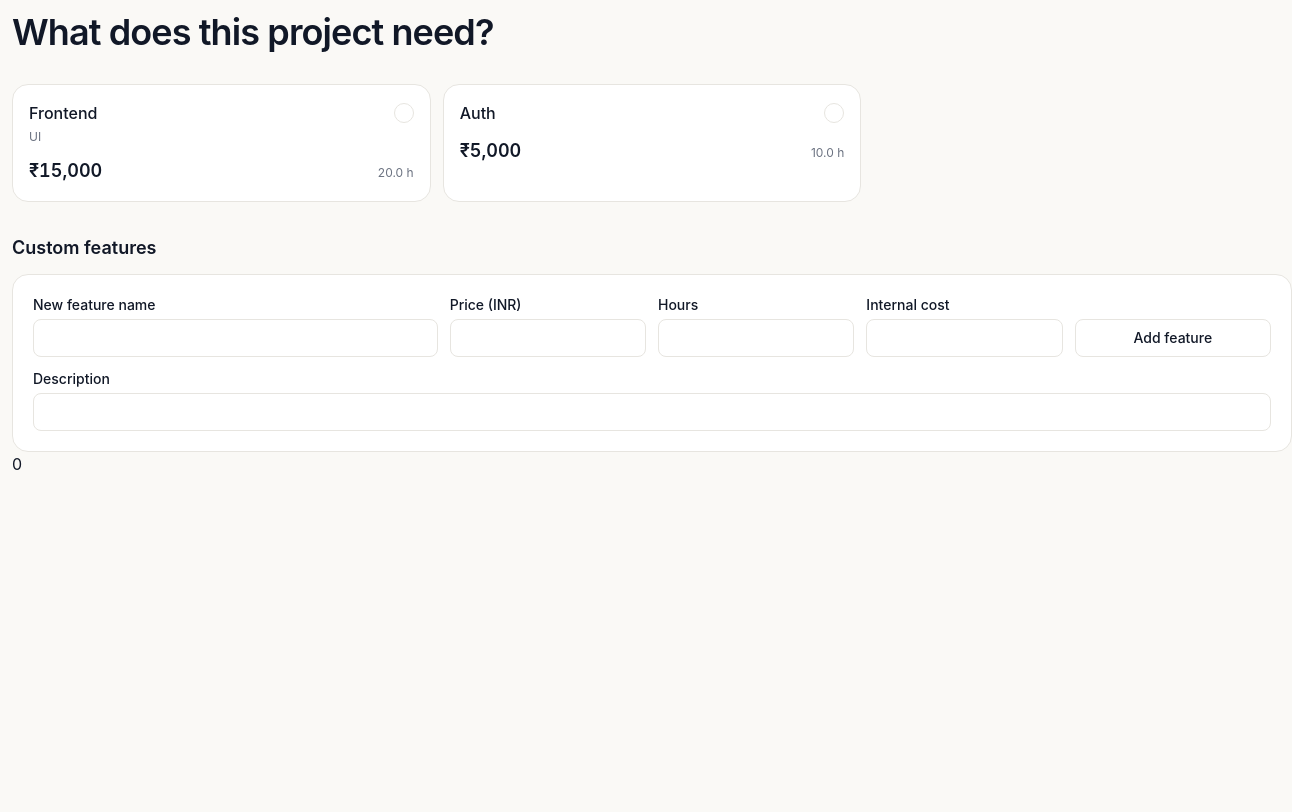
Test: feature selection › adds a custom feature and rejects an empty name
Click the button "Add feature".
click(1173, 338)  # box 1075,319 -> 1271,357
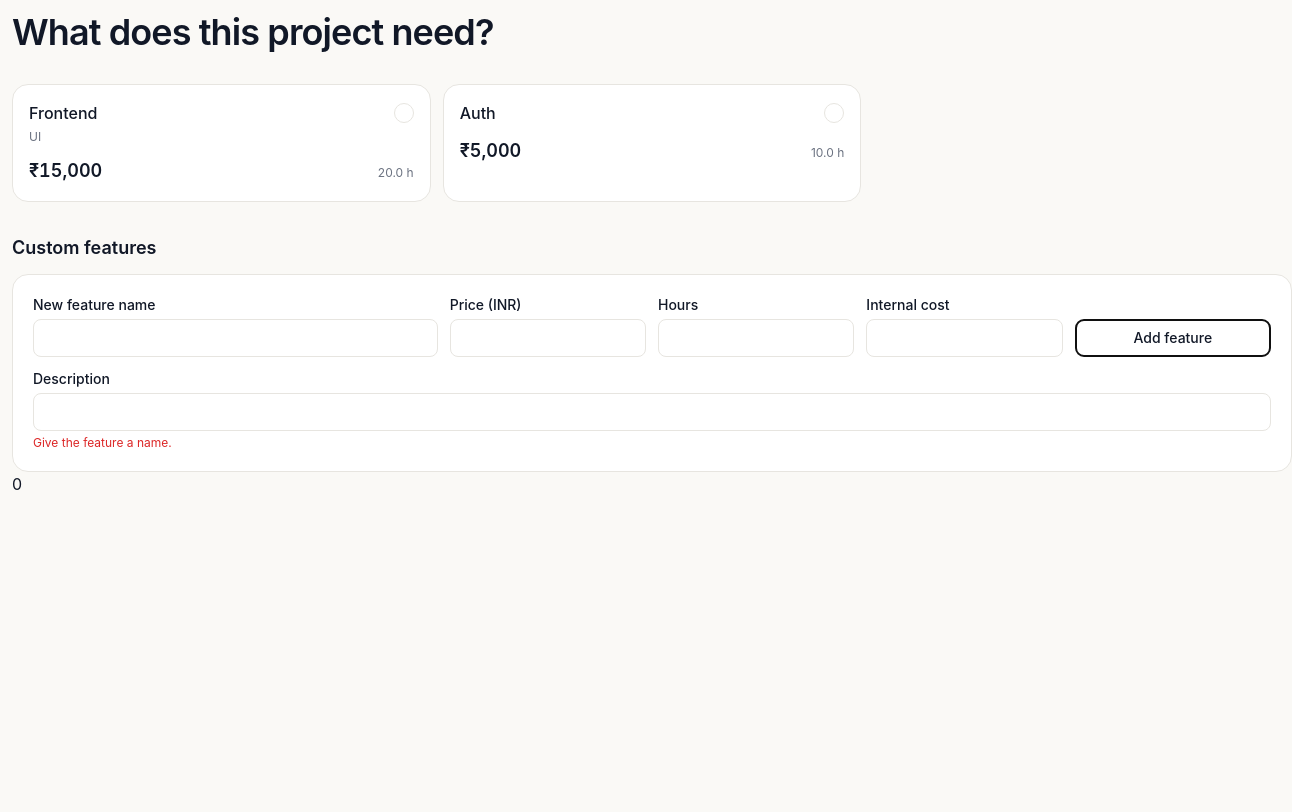
Result: the message shows "Give the feature a name" at 33,435 -> 172,450
Type "Report" into the field labelled "New feature name".
click(235, 338); type("Report")  # box 33,319 -> 438,357
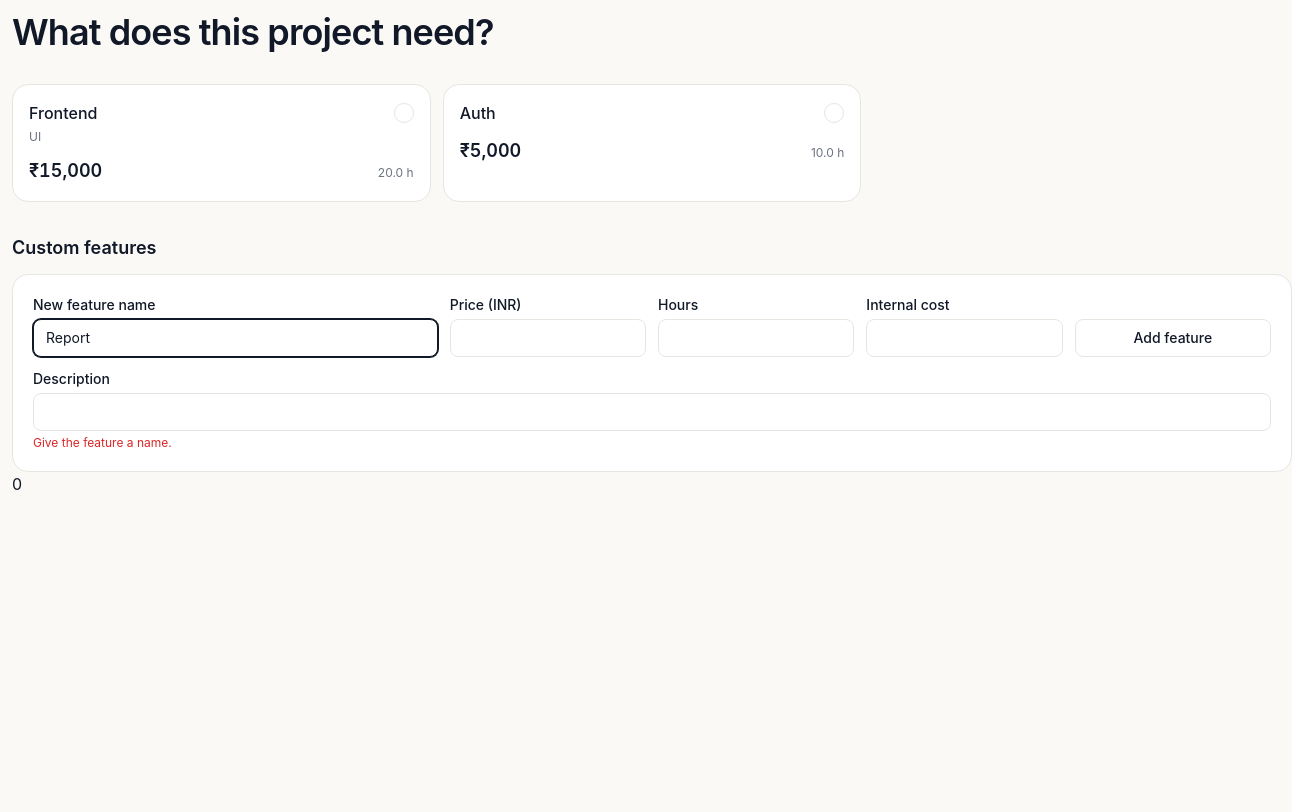
Type "2500" into the number field labelled "Price (INR)".
click(548, 338); type("2500")  # box 450,319 -> 646,357
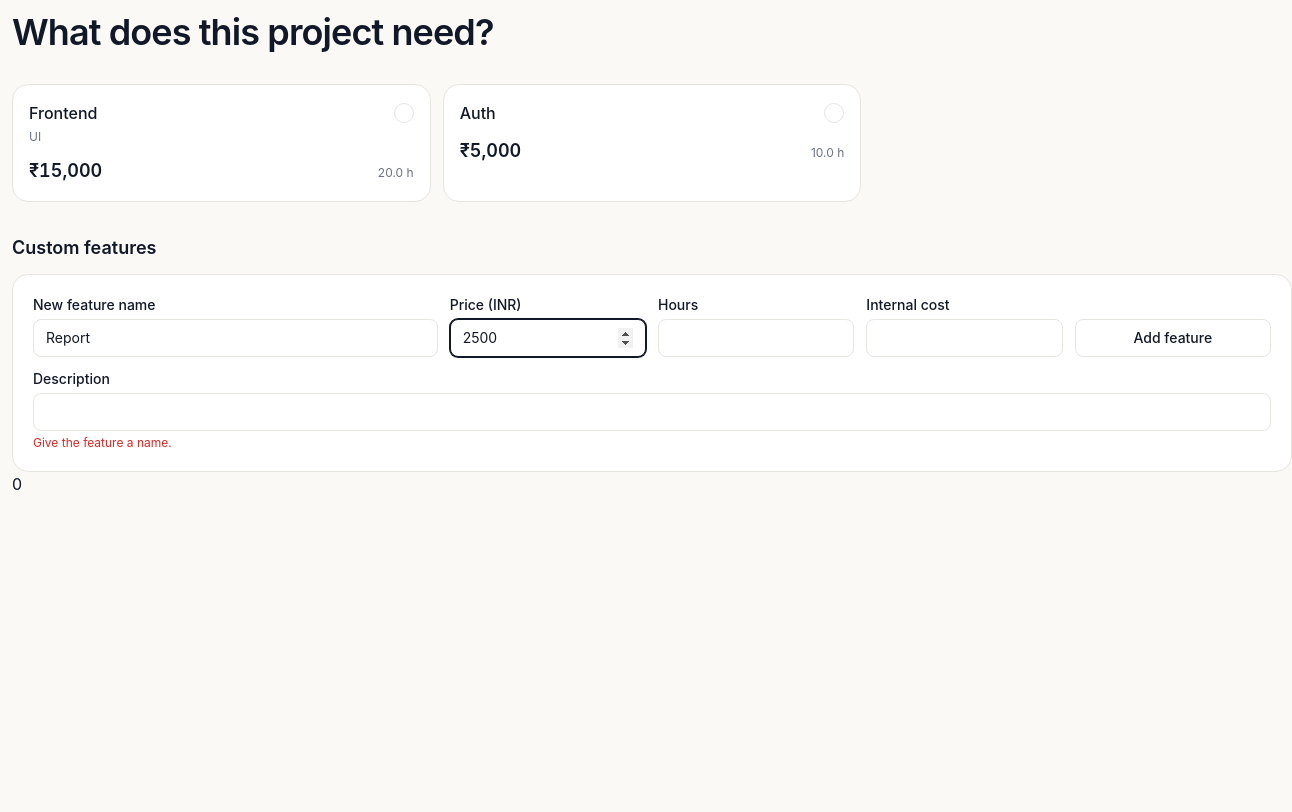
Click the button "Add feature".
click(1173, 338)  # box 1075,319 -> 1271,357
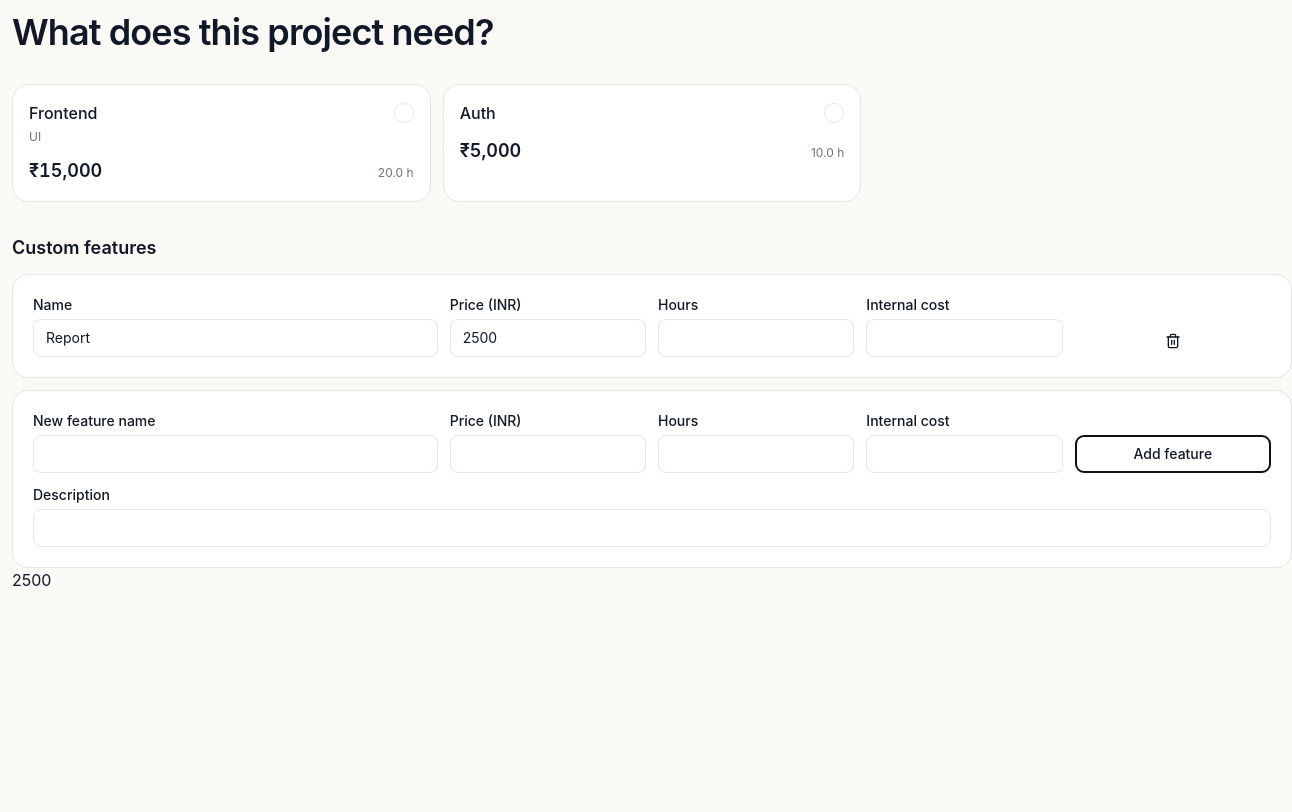
Result: the text with test id "total" reads "2500" at 12,570 -> 51,590
